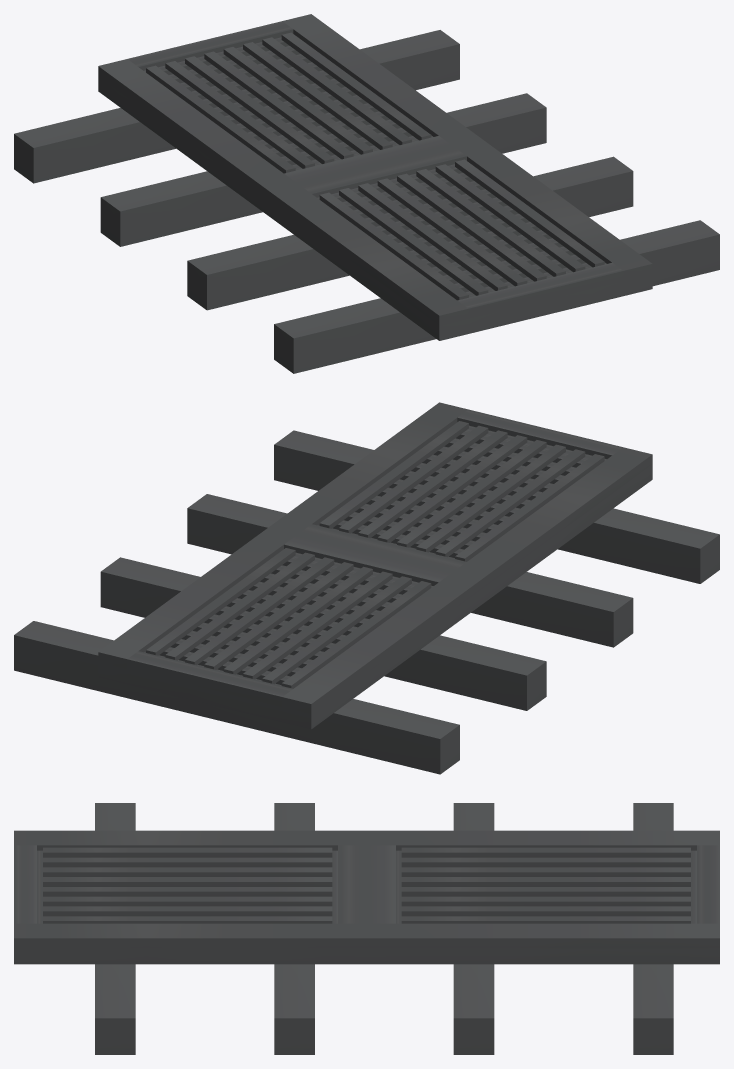
Rendered from tpws_signal.obj.
3 renders of one model, top to bottom at view 1: azimuth 30°, elevation 25°; view 2: azimuth 150°, elevation 25°; view 3: azimuth 270°, elevation 25°, orthographic. The views are drawn at different scales.
Visible parts, largest first — view 1: cube; view 2: cube; view 3: cube.
Part boxes in pixels (x1=…): cube: x1=14, y1=14, x2=719, y2=373; cube: x1=14, y1=402, x2=719, y2=774; cube: x1=14, y1=803, x2=719, y2=1054.
Bounding box in the file's own units: 1.38 × 0.1875 × 1.91.
